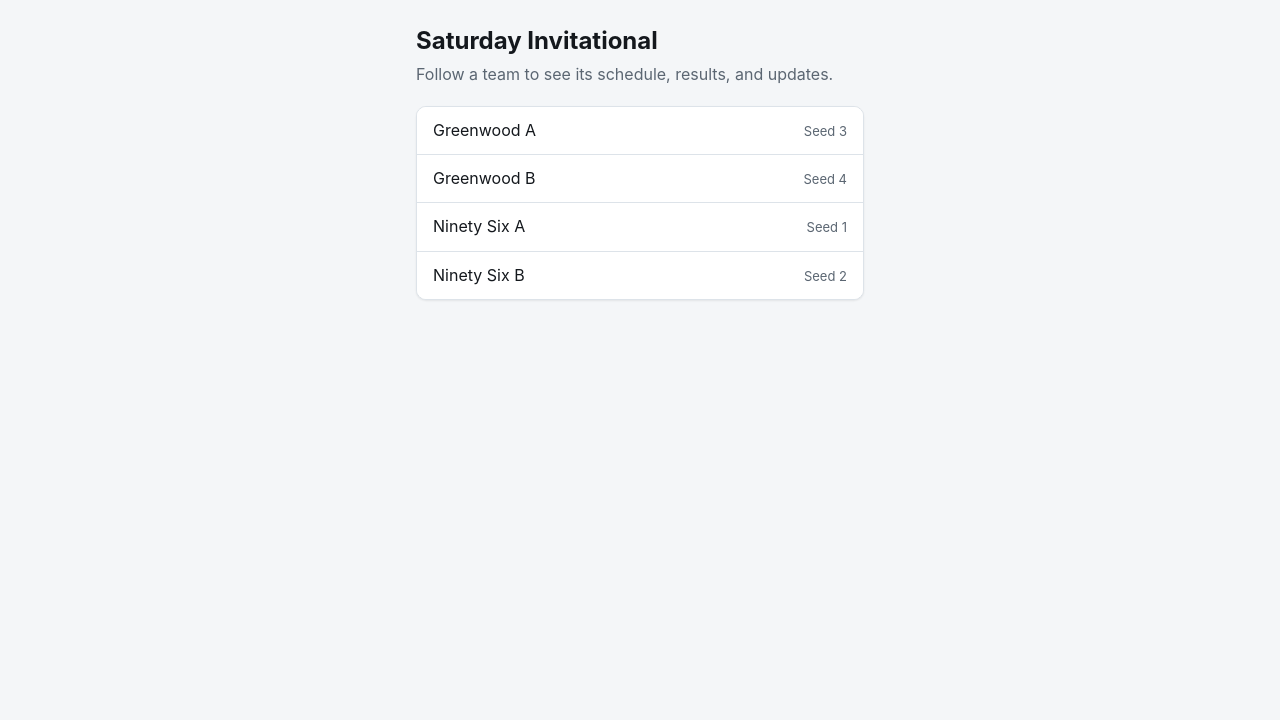
Scenario: what the page must not invent › labels schedule sections with their round and pool
Click the button "Ninety Six A Seed 1": (479, 226) [417,203,863,252]
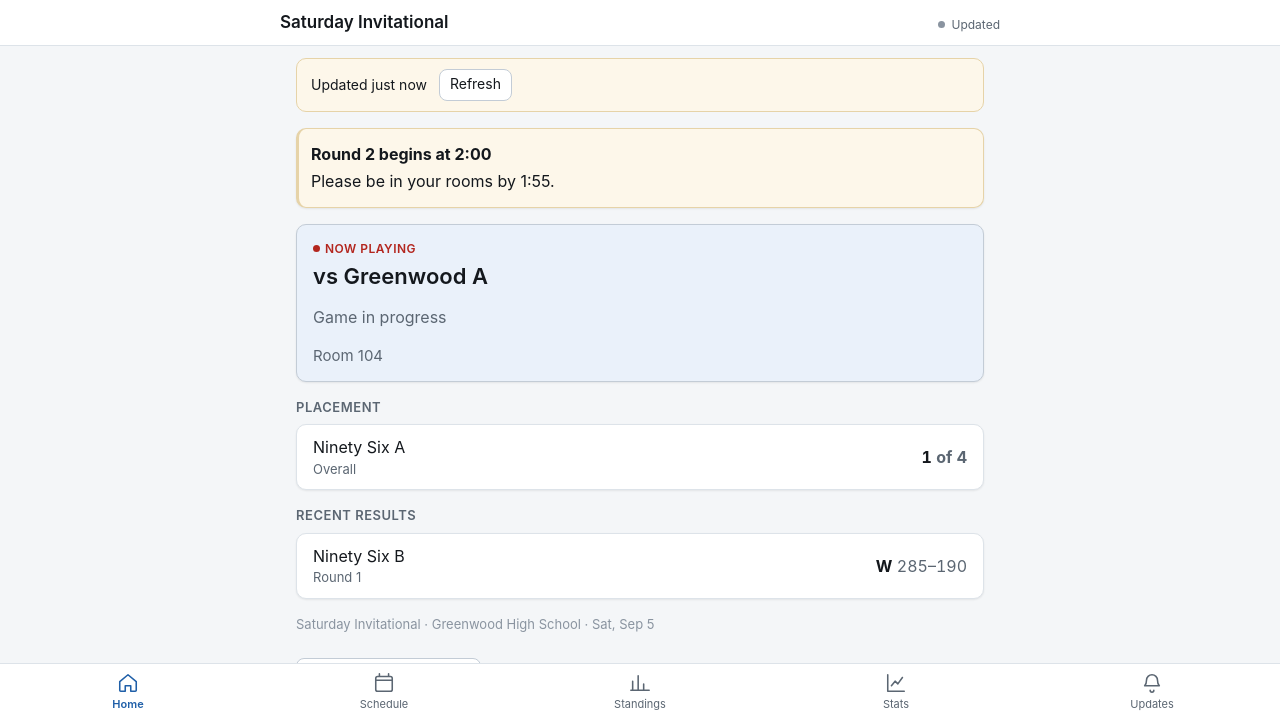
Click the button "Schedule": (384, 692) [256,664,512,719]
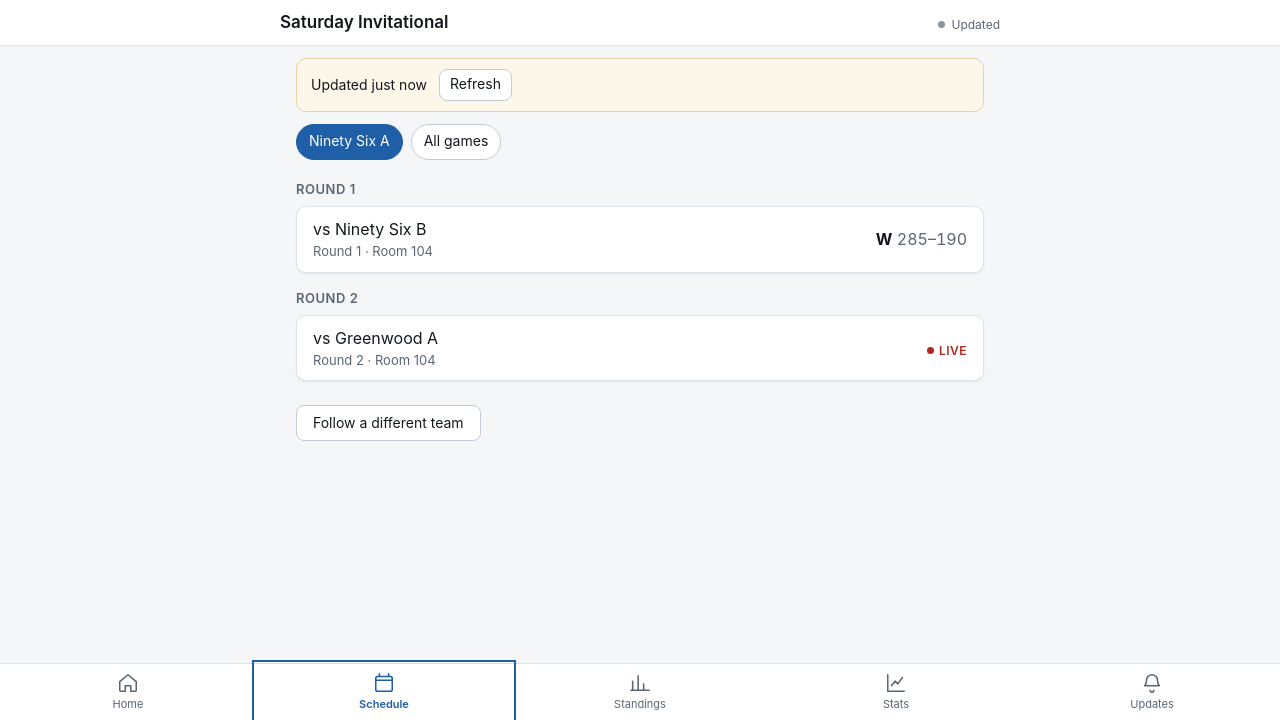
Click the button "All games": (456, 142) [411,124,501,160]
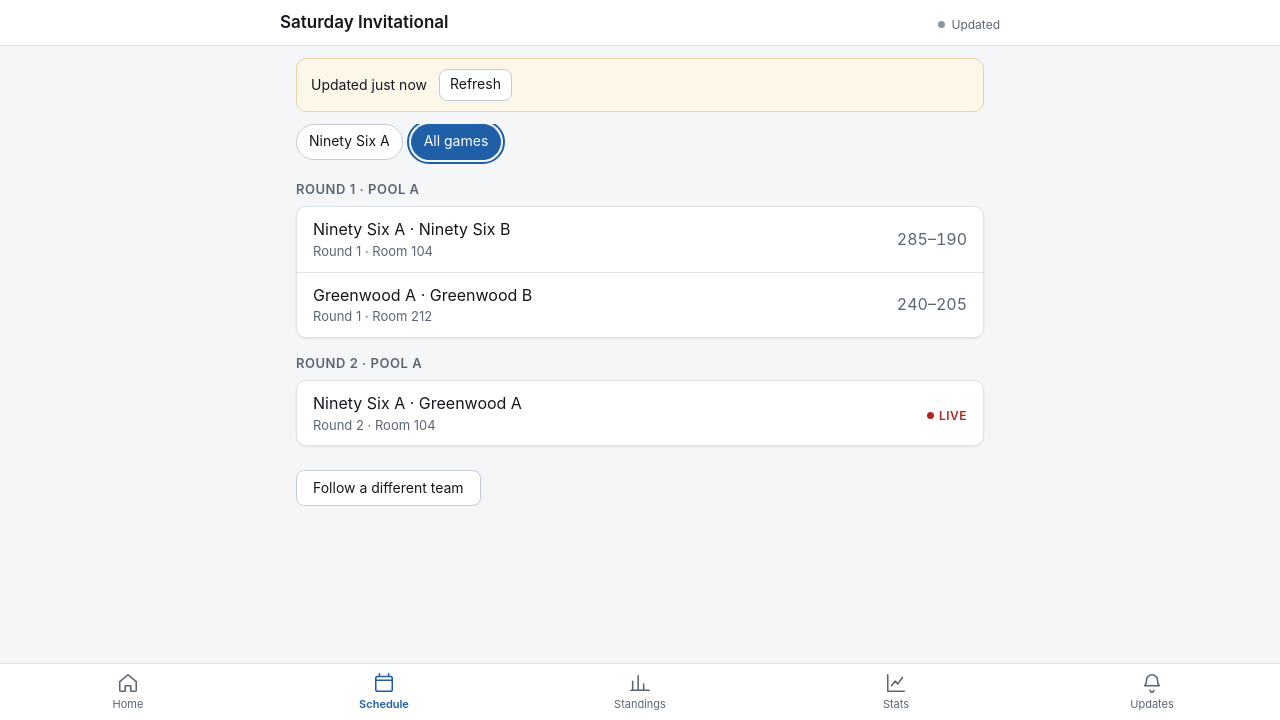
Check: the element "Round 1 · Pool A" is shown, box [296,180,984,338]
